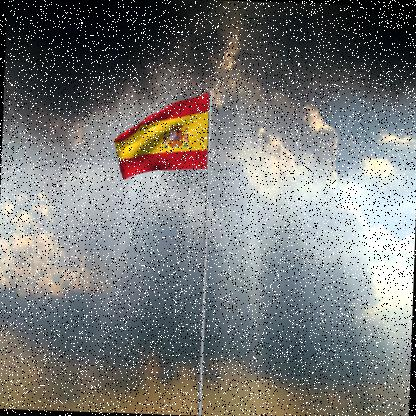es: (114, 91, 211, 186)
